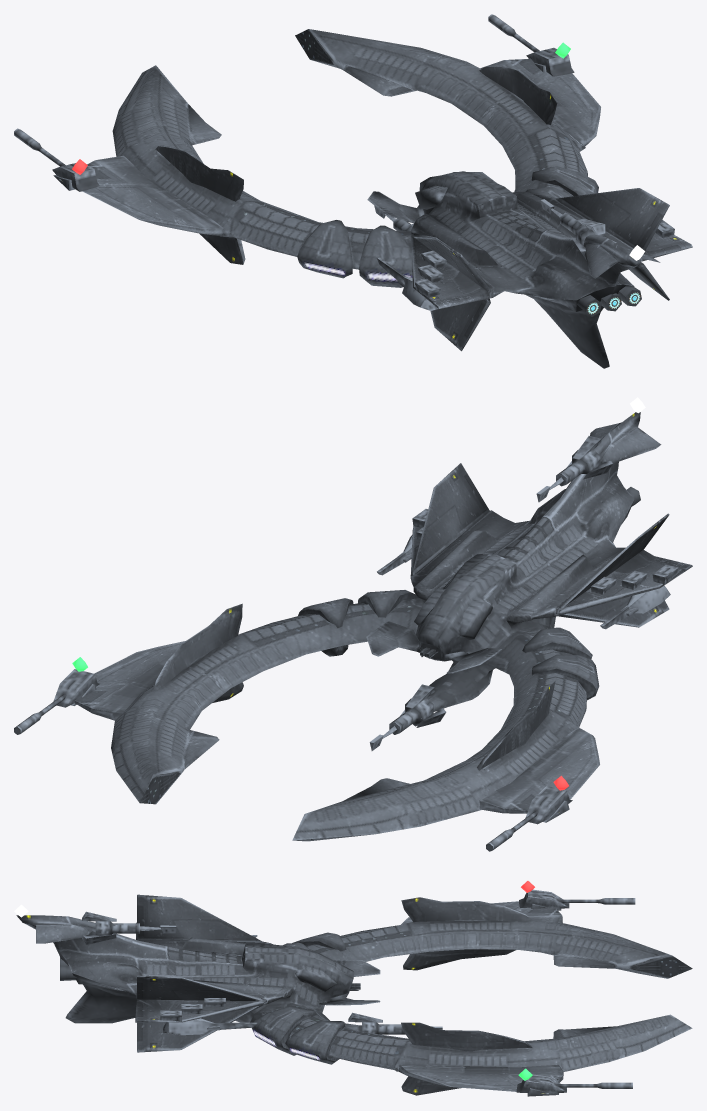
File: goliath-reversed-angled-wings.glb
3 renders of one model, top to bottom at view 1: azimuth 30°, elevation 25°; view 2: azimuth 150°, elevation 25°; view 3: azimuth 270°, elevation 25°, orthographic. The views are drawn at different scales.
Parts seen in each view (by area): view 1: main; view 2: main; view 3: main.
Boxes of the visible parts, x1,y1,x2,y2 form: main: (14,14,692,368); main: (14,412,692,851); main: (16,889,692,1096).
Bounding box in the file's own units: 137 × 44.4 × 201.
4 materials, 1 textured.
